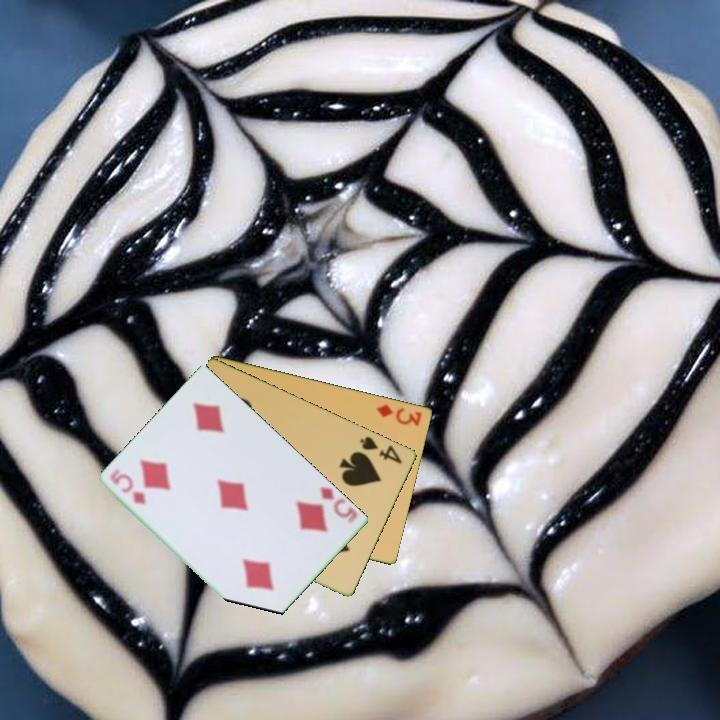3d: (372, 400, 425, 429)
4s: (357, 433, 406, 467)
5d: (317, 483, 361, 526), (107, 470, 149, 507)
